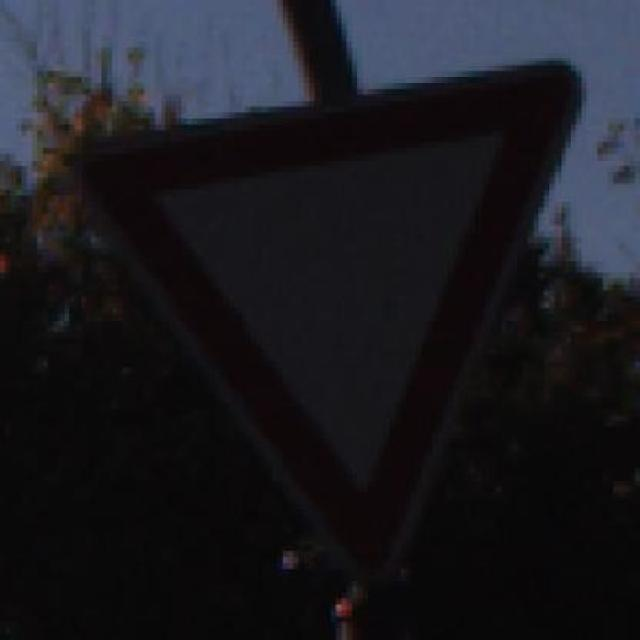Give Way: (58, 47, 624, 587)
